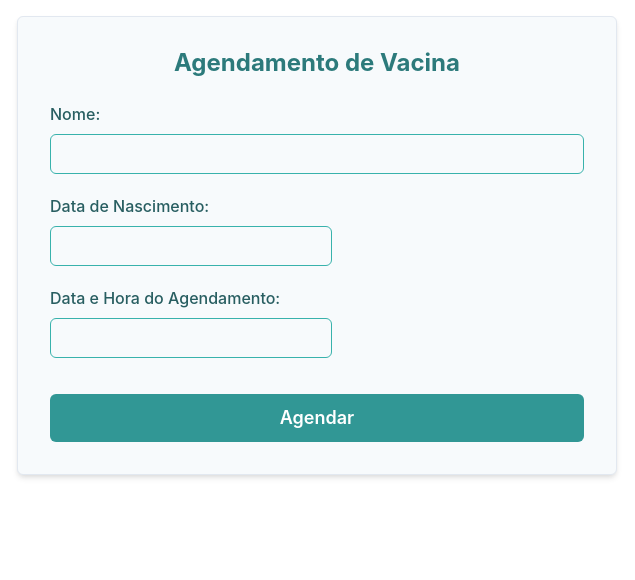
Test: <AppointmentForm/> › should handle forms error
This screenshot has width=635, height=580.
Click the button "Agendar" at (317, 418), box [50,394,584,442]
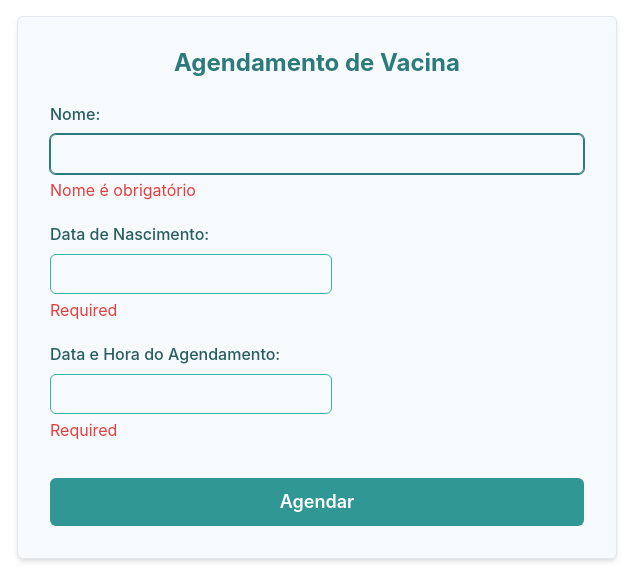
Check: the text with test id "name-error" reads "Nome é obrigatório", box [50,180,196,200]
Check: the text with test id "birthDate-error" reads "Required", box [50,300,117,320]
Check: the text with test id "appointmentDay-error" reads "Required", box [50,420,117,440]
